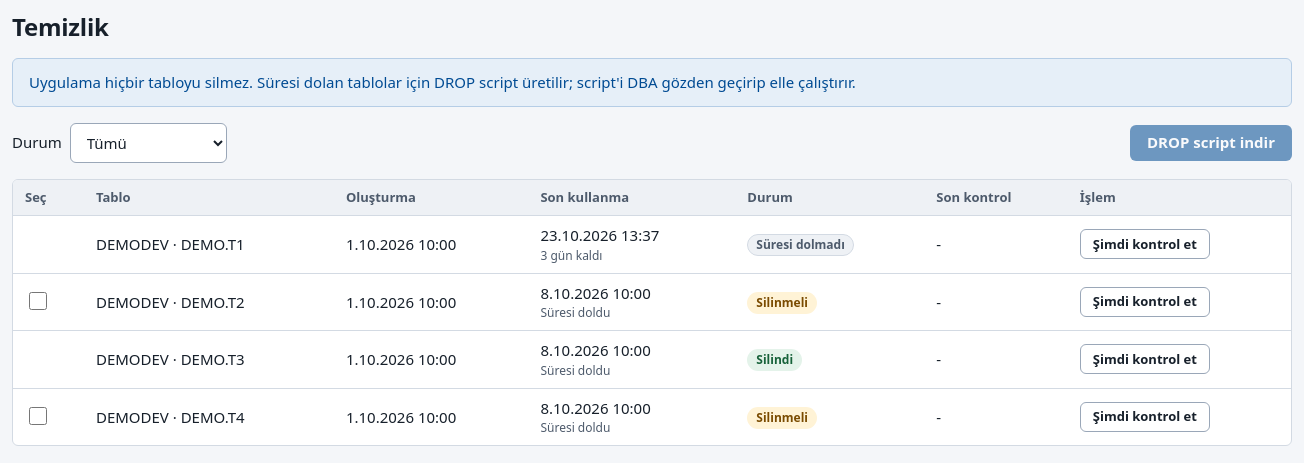
Test case: Cleanup › Şimdi kontrol et checkTracked çağırır ve sonucu bildirir
Expected: the text "DEMODEV · DEMO.T1" is shown, [84,216,334,274]
Step 1. Click the button named "Şimdi kontrol et DEMO.T1" → (1145, 244), box [1080,229,1210,259]
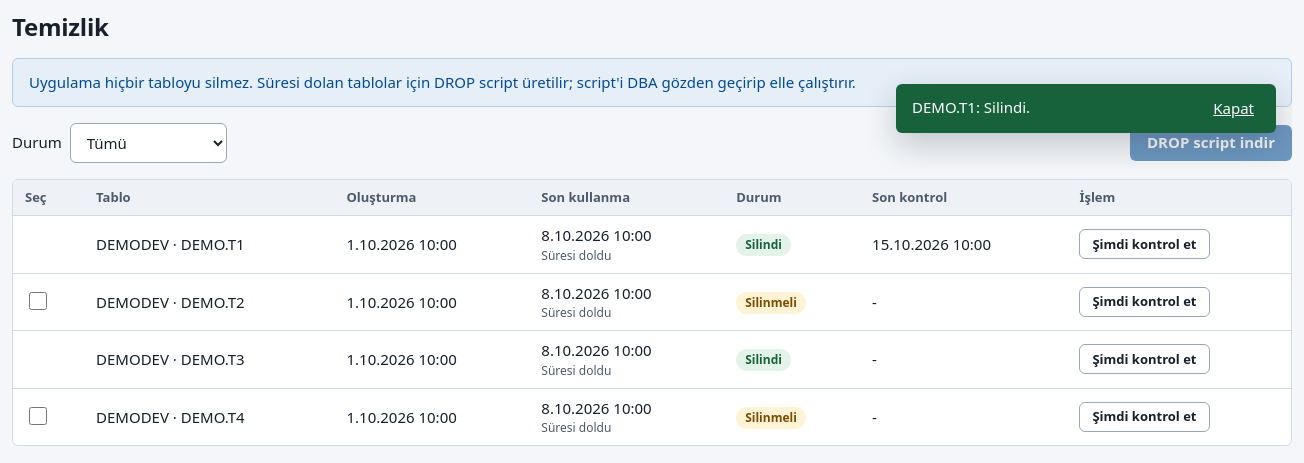
Expected: the text "DEMO.T1: Silindi." is shown, [912,96,1030,118]
